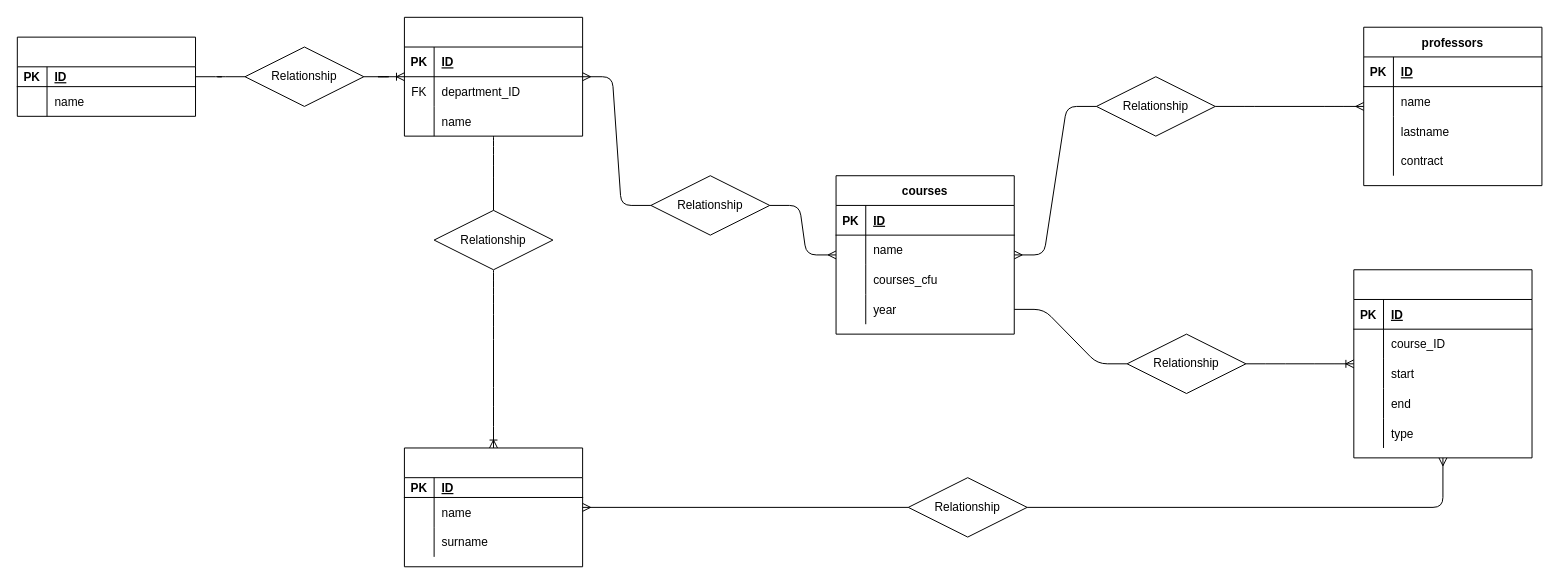
Some shapes in this 1559 by 584 pixel diagram are drawn without their labels. Here are the shapes that lost their labels. From the top down, the box of each, then its label:
(16, 36, 196, 116): departments
(403, 16, 583, 136): departmente_courses
(1353, 269, 1532, 458): exam_sessions
(403, 447, 583, 567): students
